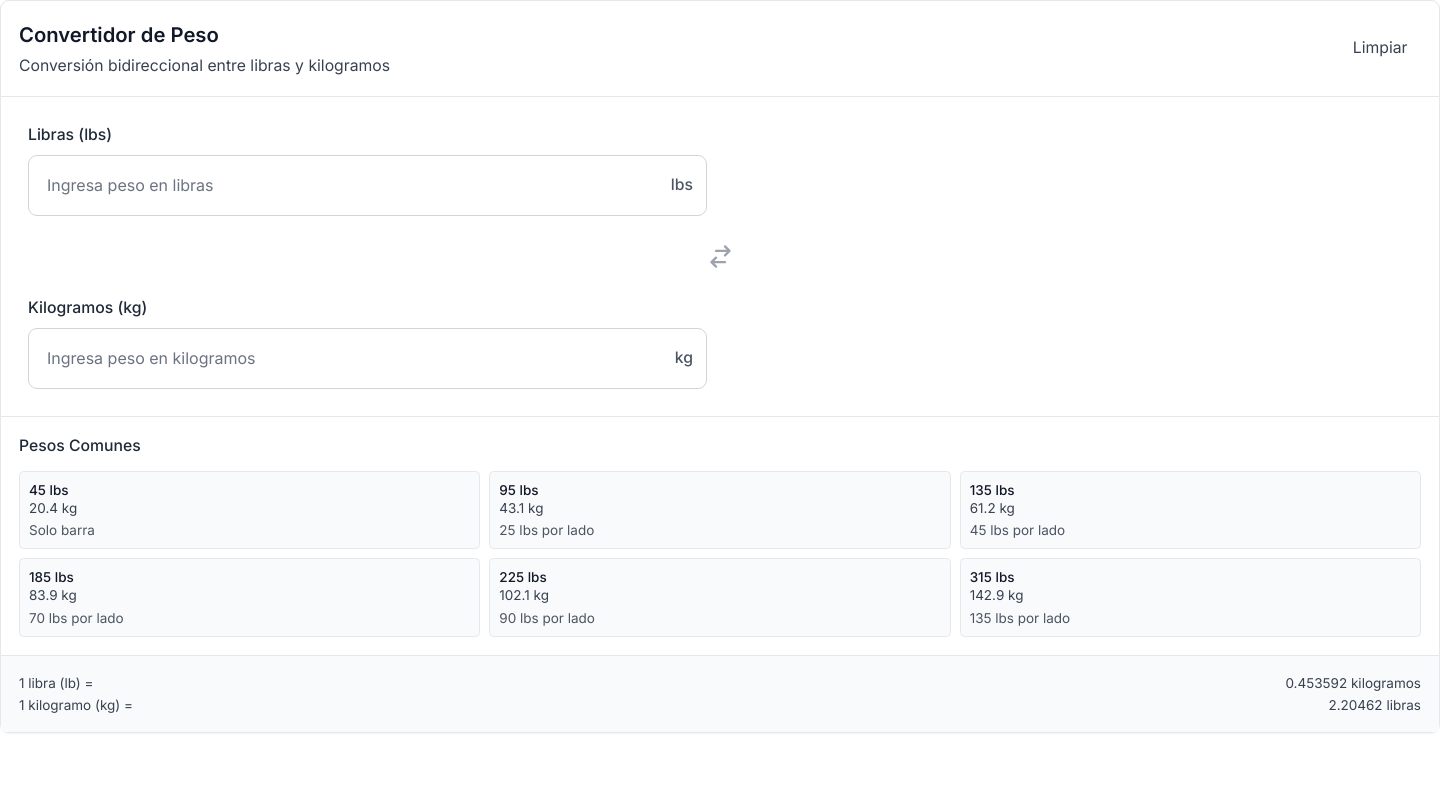
Test: WeightConverter › clears both inputs when clear button is clicked
The image size is (1440, 799).
// Enter values
Type "100" into the number field labelled "Libras (lbs)" at (367, 185), box [28,155,706,216]
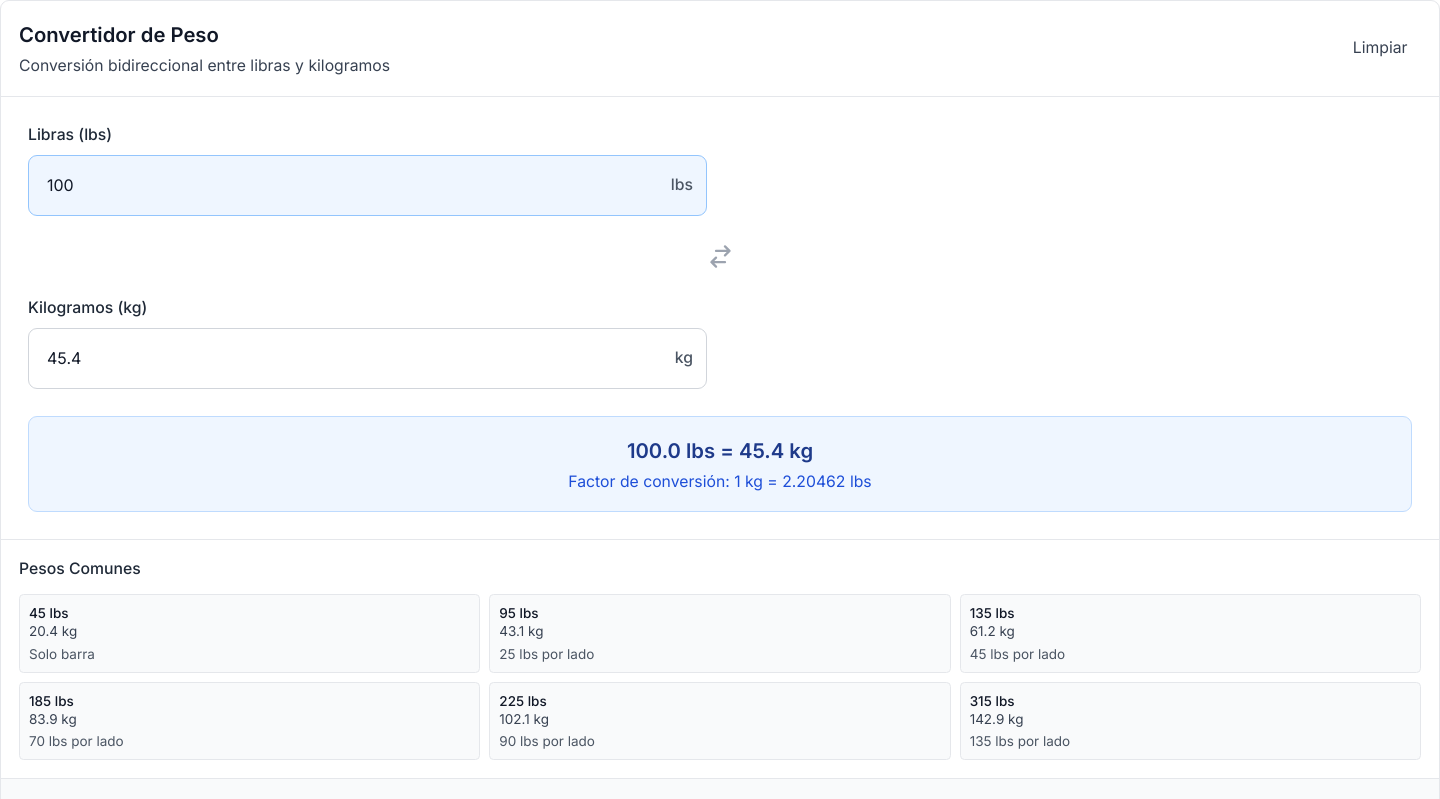
Check: the number field labelled "Kilogramos (kg)" holds "45.4", box [28,328,706,388]
// Click clear
Click the button "Limpiar" at (1380, 48), box [1339,26,1421,70]
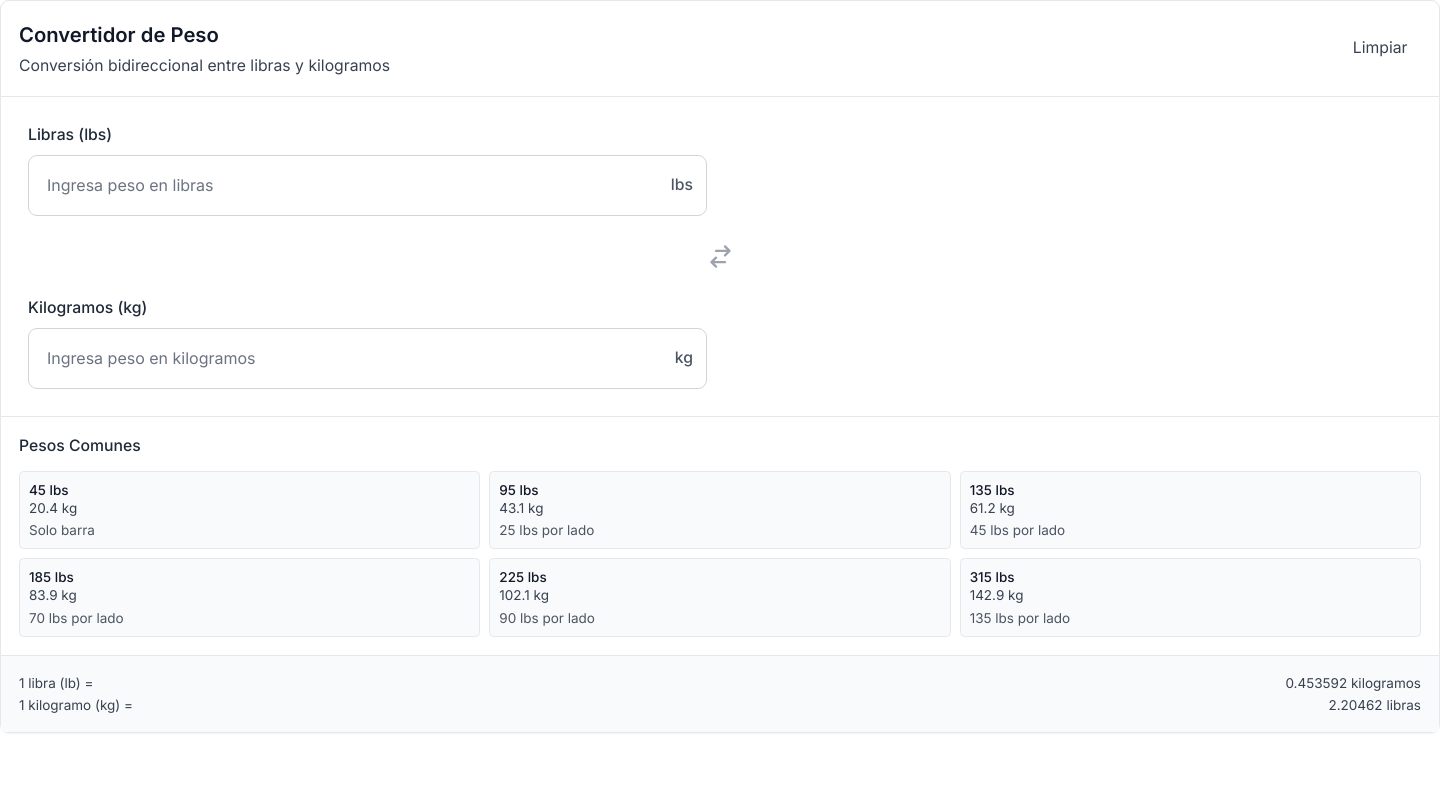
Check: the number field labelled "Libras (lbs)" is not empty, box [28,155,706,216]
Check: the number field labelled "Kilogramos (kg)" is not empty, box [28,328,706,388]
